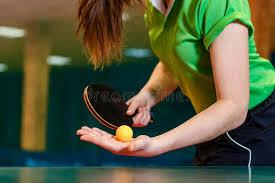oball: (114, 124, 135, 142)
